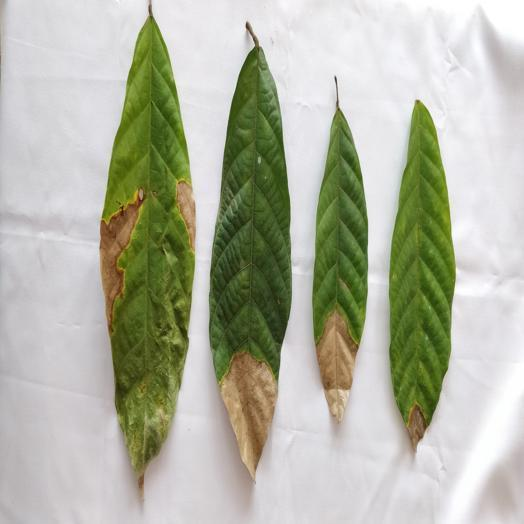Potassium: (100, 4, 195, 492), (209, 22, 291, 478), (390, 100, 455, 449), (313, 78, 367, 421)
